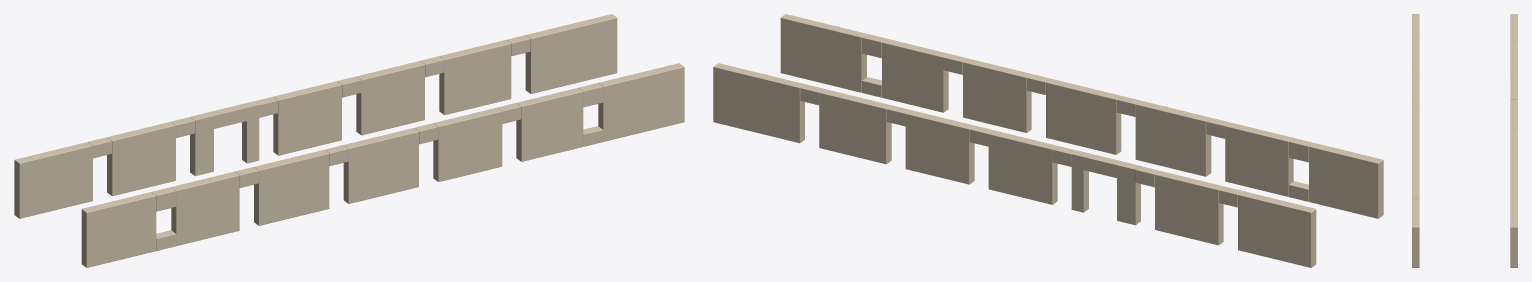
The model's file is EXP_ExteriorWalls_Upper_ArchitecturalFix.fbx.
The picture shows the model from 3 angles, left to right: view 1: azimuth 30°, elevation 25°; view 2: azimuth 150°, elevation 25°; view 3: azimuth 270°, elevation 25°; orthographic projection. The views are drawn at different scales.
Parts seen in each view (by area): view 1: EXP_ExteriorWalls_Upper_V07Fix; view 2: EXP_ExteriorWalls_Upper_V07Fix; view 3: EXP_ExteriorWalls_Upper_V07Fix.
Part boxes in pixels (x1=…): EXP_ExteriorWalls_Upper_V07Fix: x1=14, y1=14, x2=684, y2=267; EXP_ExteriorWalls_Upper_V07Fix: x1=713, y1=14, x2=1383, y2=267; EXP_ExteriorWalls_Upper_V07Fix: x1=1412, y1=14, x2=1517, y2=267.
Size of the model in its own units: 3600 by 755 by 320.
